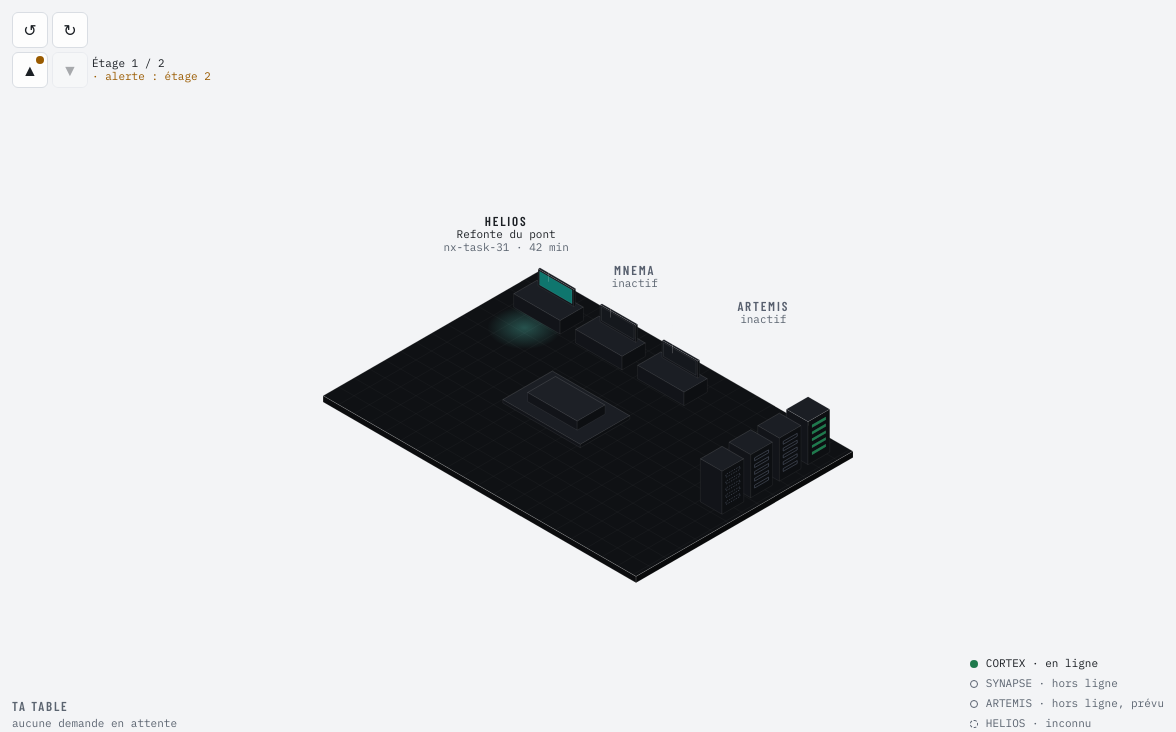
Test: salle : les étiquettes visuelles sont aria-hidden, la légende complète reste pour les lecteurs d'écran, un résumé « n / m en ligne » est visible
Click the button named "Monter d'un étage" at (30, 70), box x1=12 y1=52 x2=48 y2=88
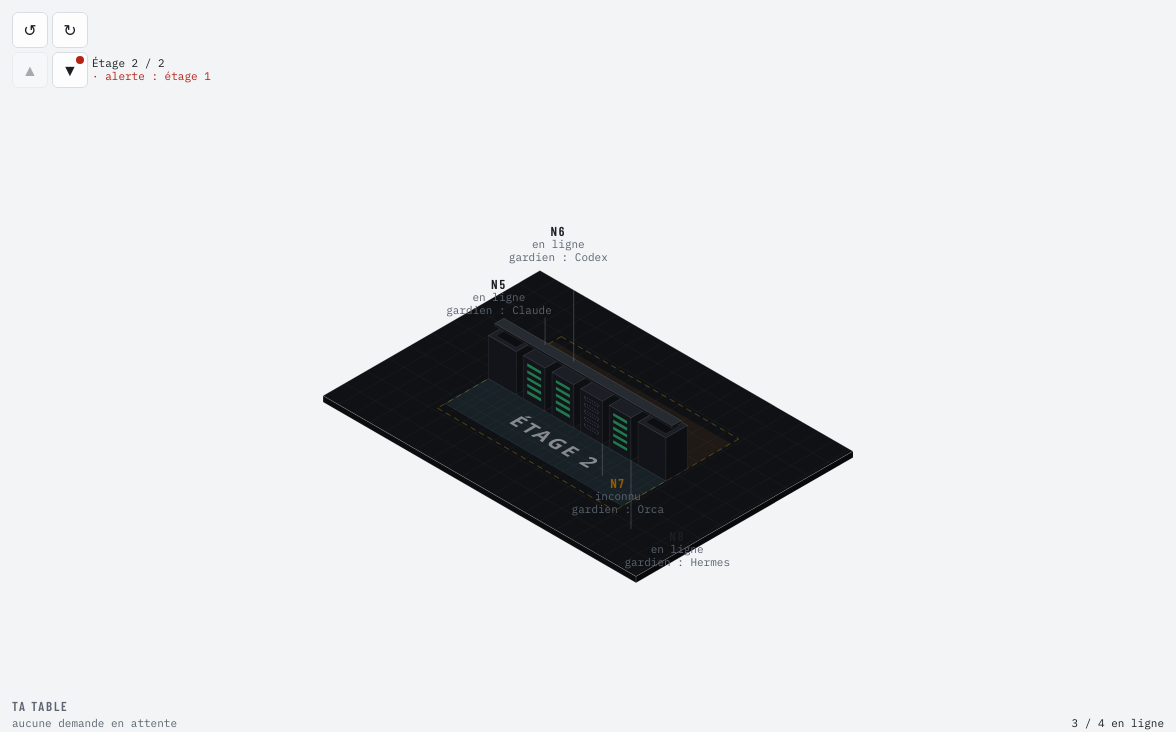
Check: the text "3 / 4 en ligne" is shown, box x1=1072 y1=716 x2=1164 y2=731
